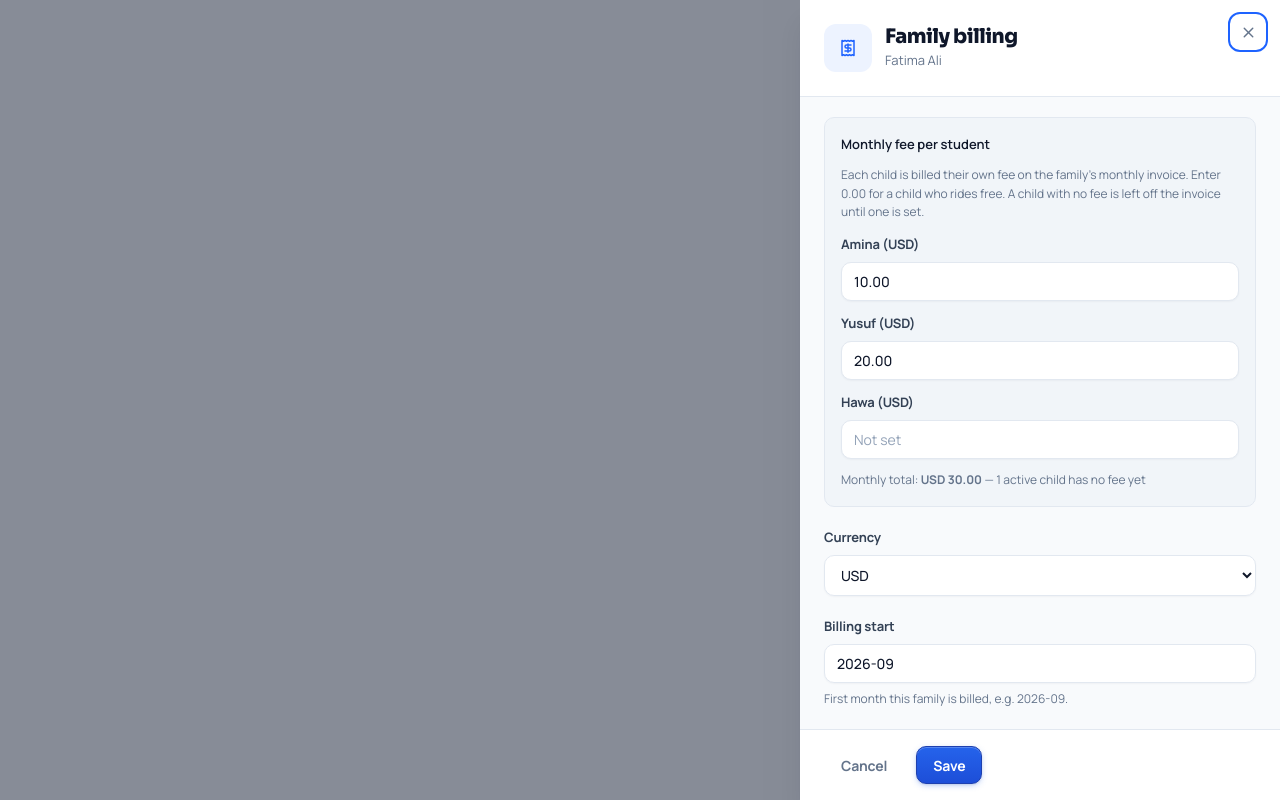
BillingProfileForm (ADR-0048 per-student fees) › refuses to blank a fee that is set — 0.00 is how a child stops being billed
Clear the field named "Monthly fee for Amina". click: {"x": 1040, "y": 282}
box: x1=841 y1=262 x2=1239 y2=301
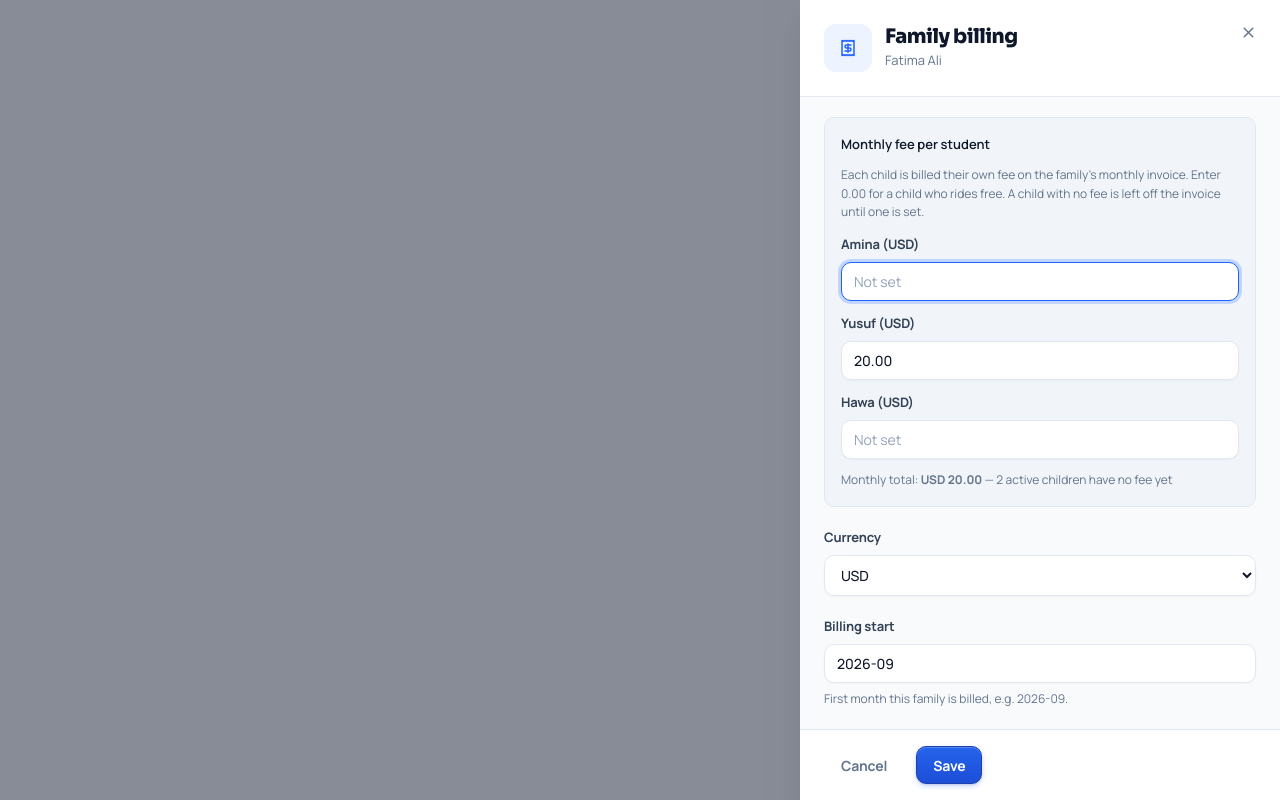
Click the button "Save". click: {"x": 949, "y": 765}
box: x1=916 y1=746 x2=982 y2=784
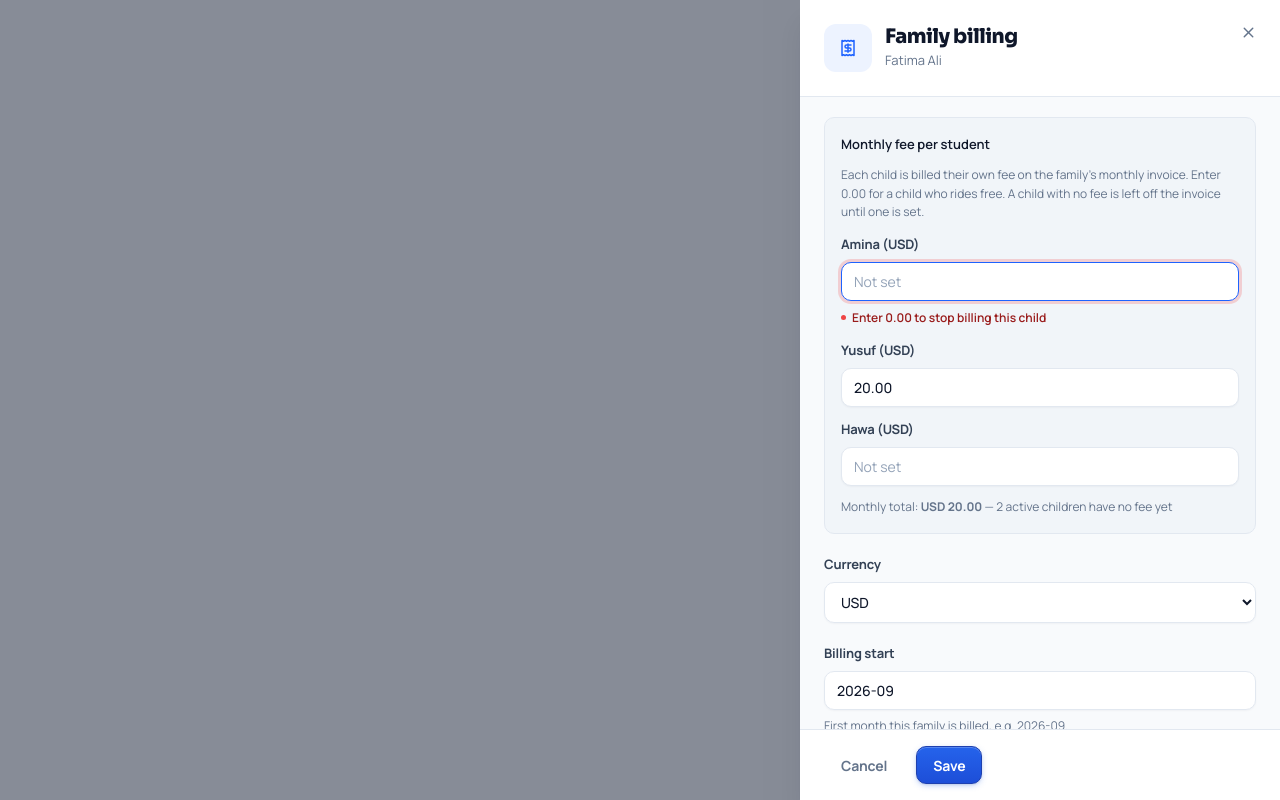
Now the text "Enter 0.00 to stop billing this child" is shown, box x1=852 y1=309 x2=1046 y2=326
